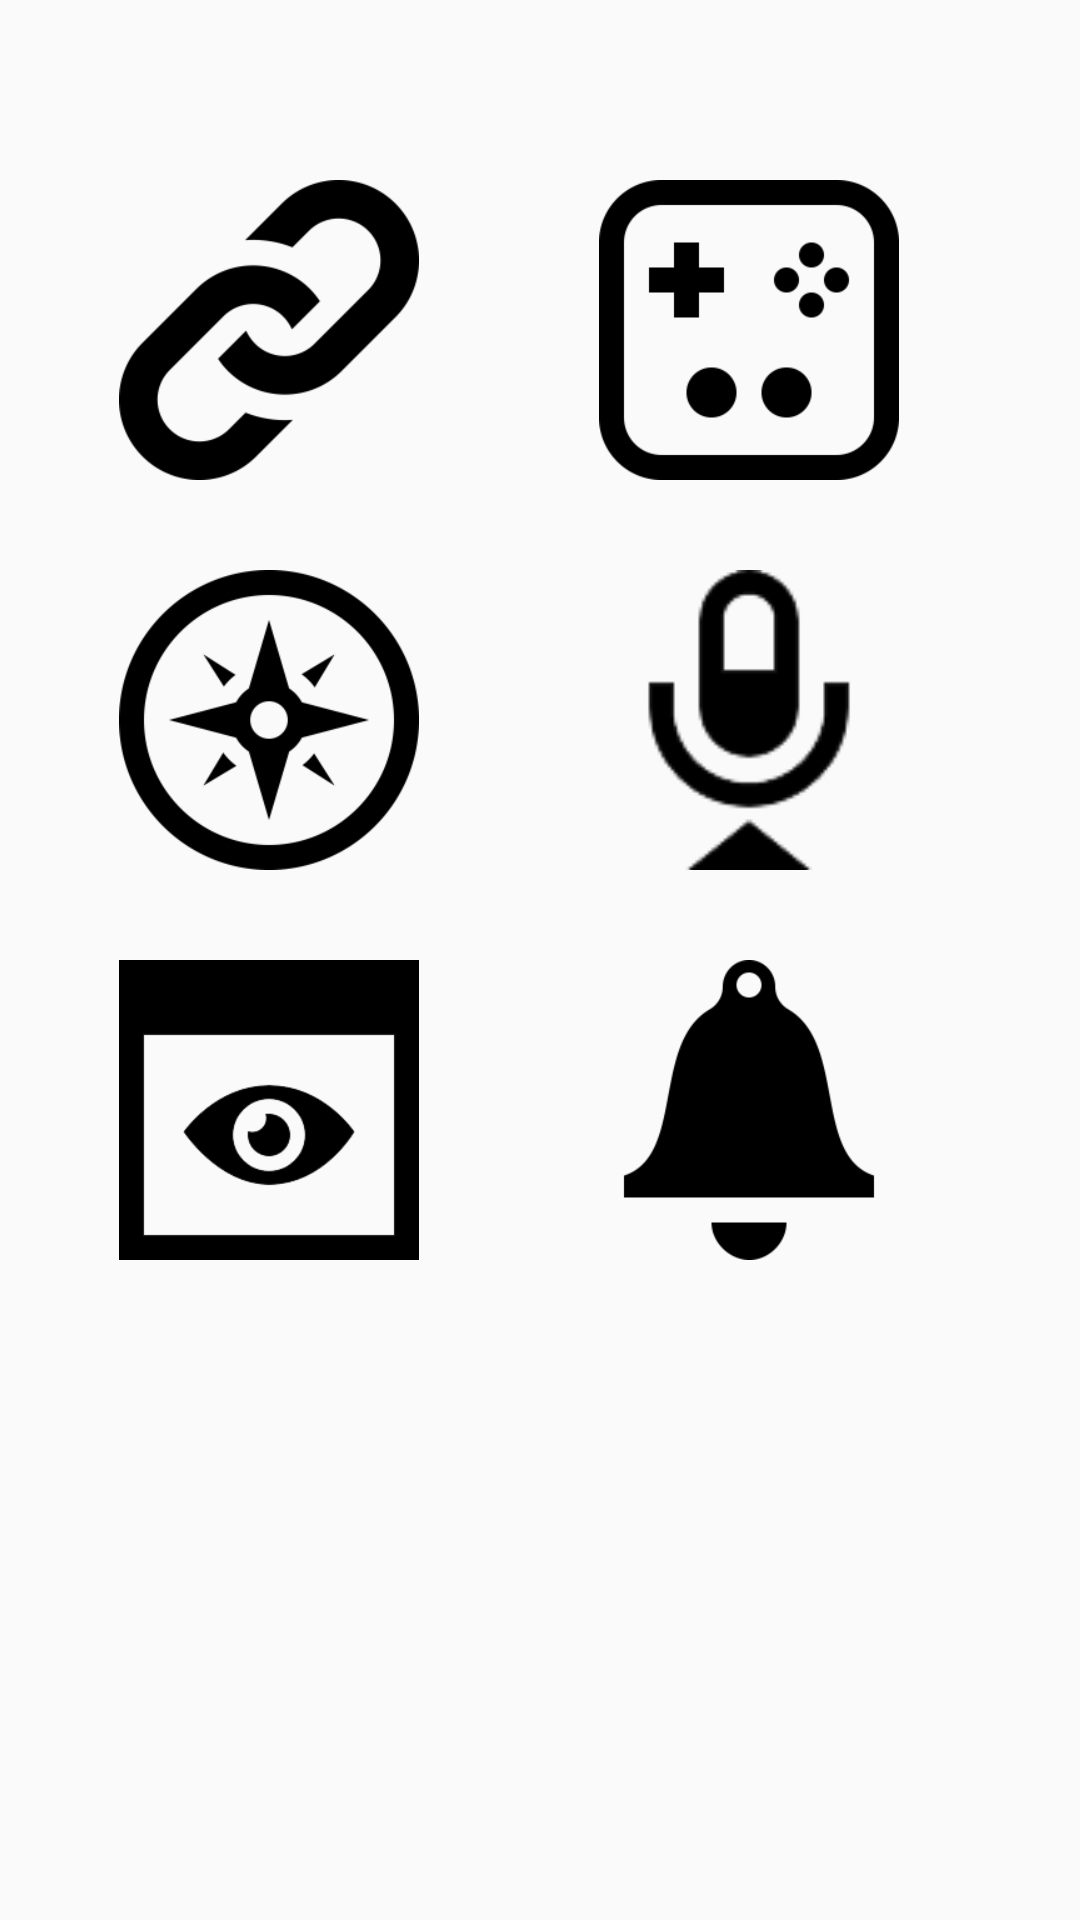

Point at icon controls on the screen. Image size 1080px x 1920px, points as point (x, y).
bell: point (749, 1110)
voice: point (749, 720)
